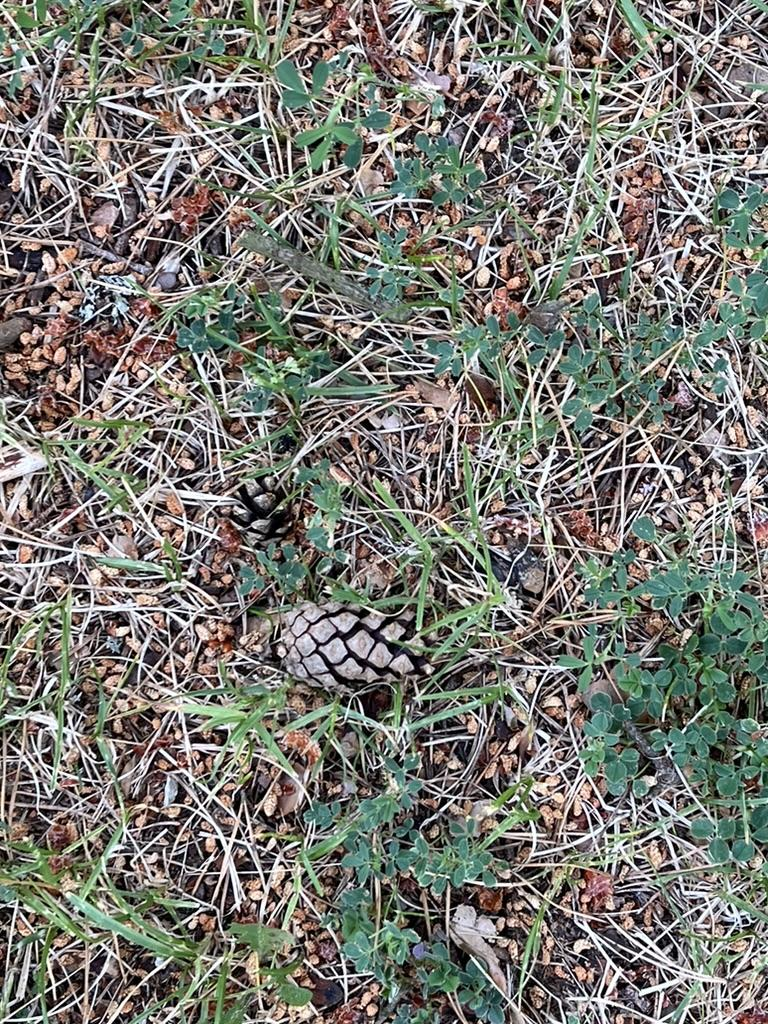pine: (276, 593, 454, 703), (216, 466, 304, 553)
